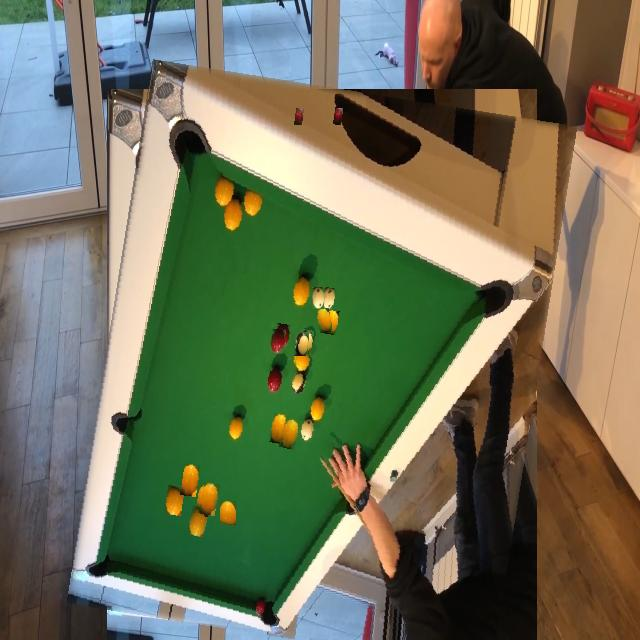Ball: (187, 506, 208, 537), (280, 418, 300, 450), (201, 482, 219, 516), (292, 357, 309, 384), (239, 277, 255, 301), (270, 330, 286, 354), (220, 501, 236, 525), (317, 309, 332, 333), (295, 332, 309, 356), (312, 287, 324, 309), (294, 108, 304, 125)
Billiard table: (86, 74, 557, 640)
